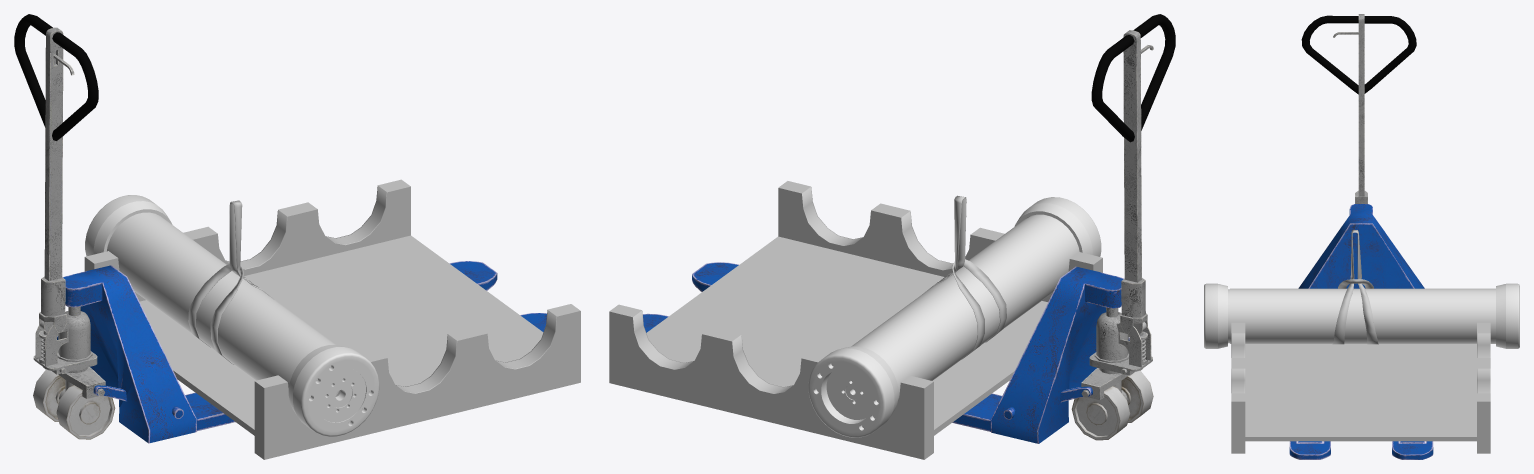
Rendered from Paleteira_Sup_Acum_Fita.fbx.
3 renders of one model, left to right at view 1: azimuth 30°, elevation 25°; view 2: azimuth 150°, elevation 25°; view 3: azimuth 270°, elevation 25°, orthographic. The views are drawn at different scales.
Parts seen in each view (by area): view 1: SuporteCilindros, Palleteira, HydraulicCilinder, TensionNut - OilSide, Fita, Cover - OilSide, TensionNut - NitrogenSide; view 2: SuporteCilindros, Palleteira, HydraulicCilinder, TensionNut - NitrogenSide, Fita, TensionNut - OilSide, Cover - NitrogenSide.001; view 3: SuporteCilindros, HydraulicCilinder, Palleteira, Fita, TensionNut - OilSide, TensionNut - NitrogenSide.
Part boxes in pixels (box(x1,y1,x2,y2)): SuporteCilindros: box(84, 179, 580, 459); Palleteira: box(14, 14, 546, 443); HydraulicCilinder: box(107, 212, 339, 395); TensionNut - OilSide: box(288, 345, 379, 436); Fita: box(188, 200, 275, 364); Cover - OilSide: box(316, 368, 365, 422); TensionNut - NitrogenSide: box(85, 195, 172, 256); SuporteCilindros: box(609, 181, 1102, 459); Palleteira: box(643, 14, 1175, 443); HydraulicCilinder: box(851, 214, 1079, 399); TensionNut - NitrogenSide: box(808, 346, 898, 437); Fita: box(922, 195, 1006, 359); TensionNut - OilSide: box(1014, 197, 1101, 256); Cover - NitrogenSide.001: box(826, 370, 871, 419); SuporteCilindros: box(1231, 322, 1490, 453); HydraulicCilinder: box(1228, 288, 1495, 343); Palleteira: box(1289, 14, 1433, 459); Fita: box(1333, 229, 1378, 344); TensionNut - OilSide: box(1204, 283, 1227, 348); TensionNut - NitrogenSide: box(1496, 283, 1519, 348).
Bounding box in the file's own units: 154 × 122 × 120.
